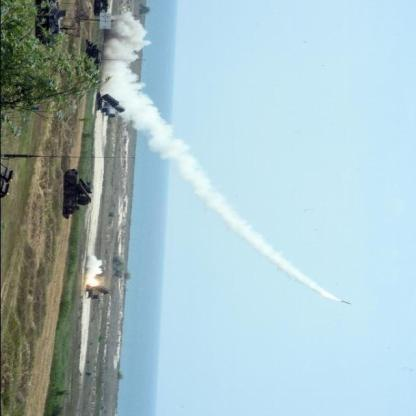MIL_TBM: (339, 300, 352, 306)
